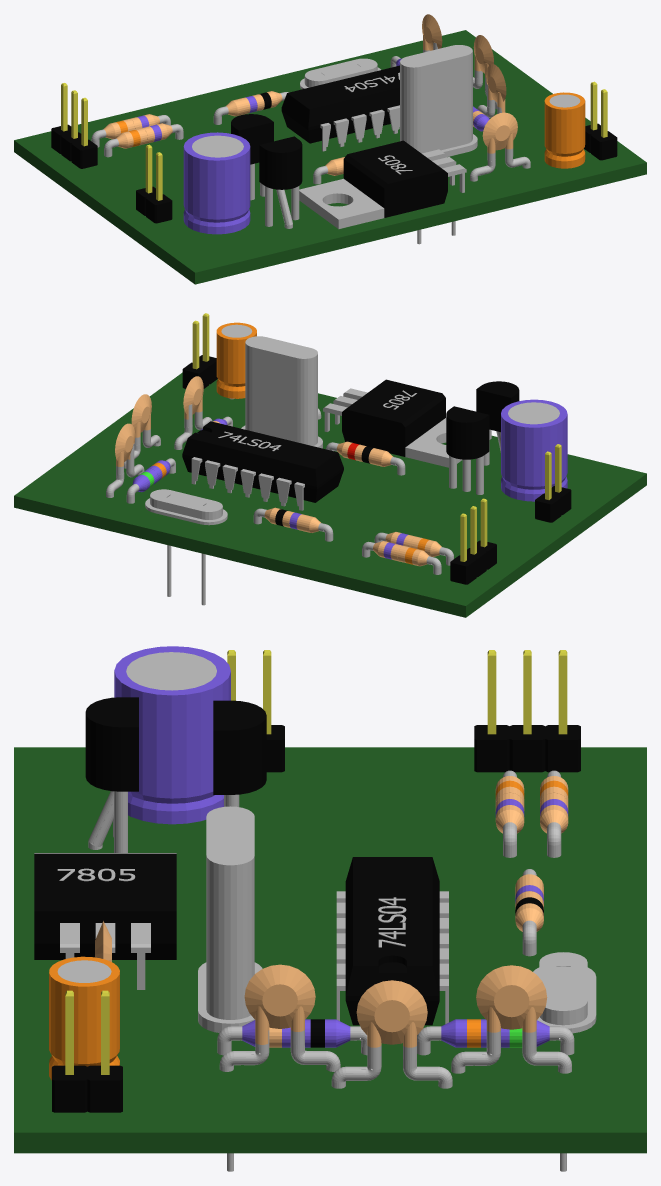
The model's file is Board_1.fbx.
3 views of the same model, one above another, from view 1: azimuth 30°, elevation 25°; view 2: azimuth 150°, elevation 25°; view 3: azimuth 270°, elevation 25° (orthographic). The views are drawn at different scales.
Parts seen in each view (by area): view 1: components, board; view 2: components, board; view 3: board, components.
Part boxes in pixels (left/top/right/bottom): components: left=51, top=14, right=617, bottom=244; board: left=14, top=30, right=646, bottom=284; components: left=106, top=313, right=571, bottom=605; board: left=14, top=372, right=646, bottom=617; board: left=14, top=747, right=646, bottom=1153; components: left=34, top=646, right=596, bottom=1171.
Bounding box in the file's own units: 641 × 248 × 445.
